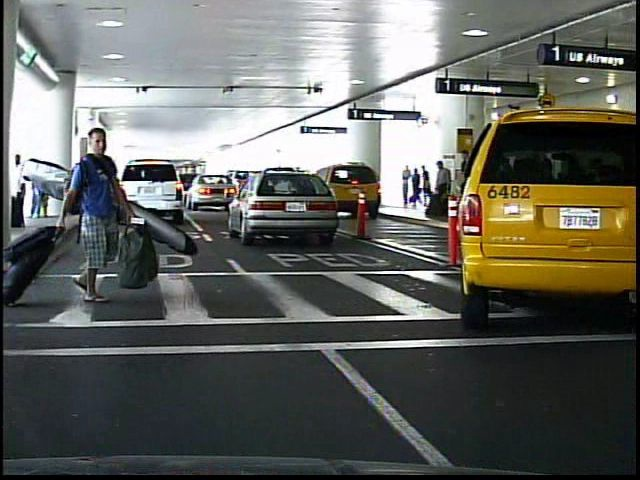person: (65, 118, 133, 320), (428, 161, 449, 218), (399, 164, 411, 208), (411, 166, 422, 210)
